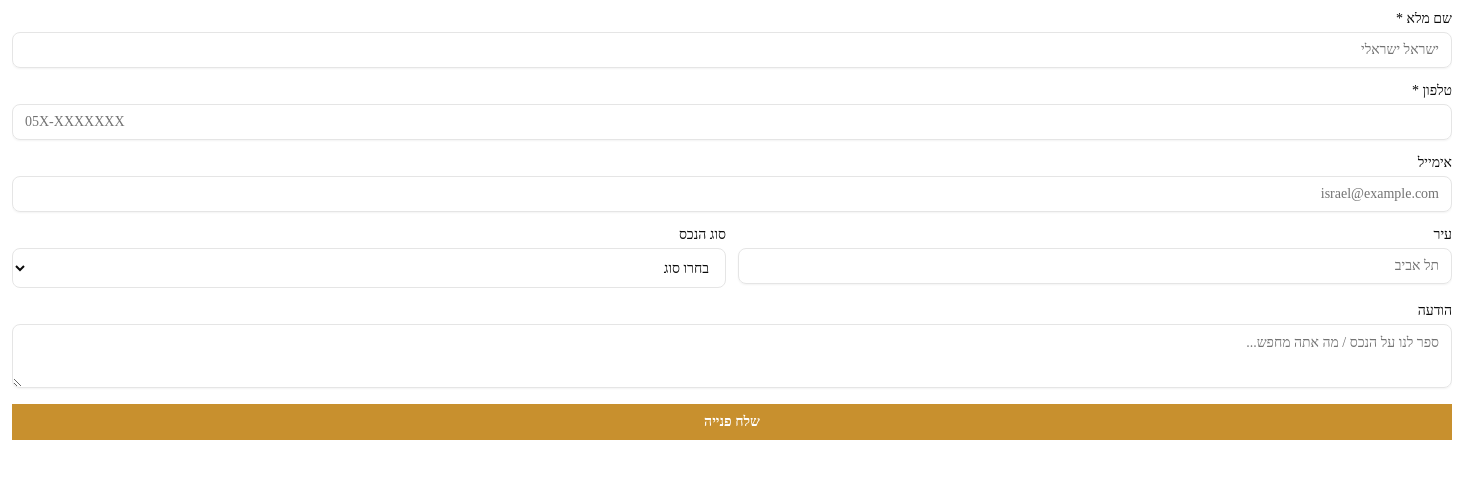
it: LeadForm › clears full_name error when user starts typing
This screenshot has width=1464, height=501.
Click the button "שלח פנייה".
click(732, 422)  # box [12,404,1452,440]
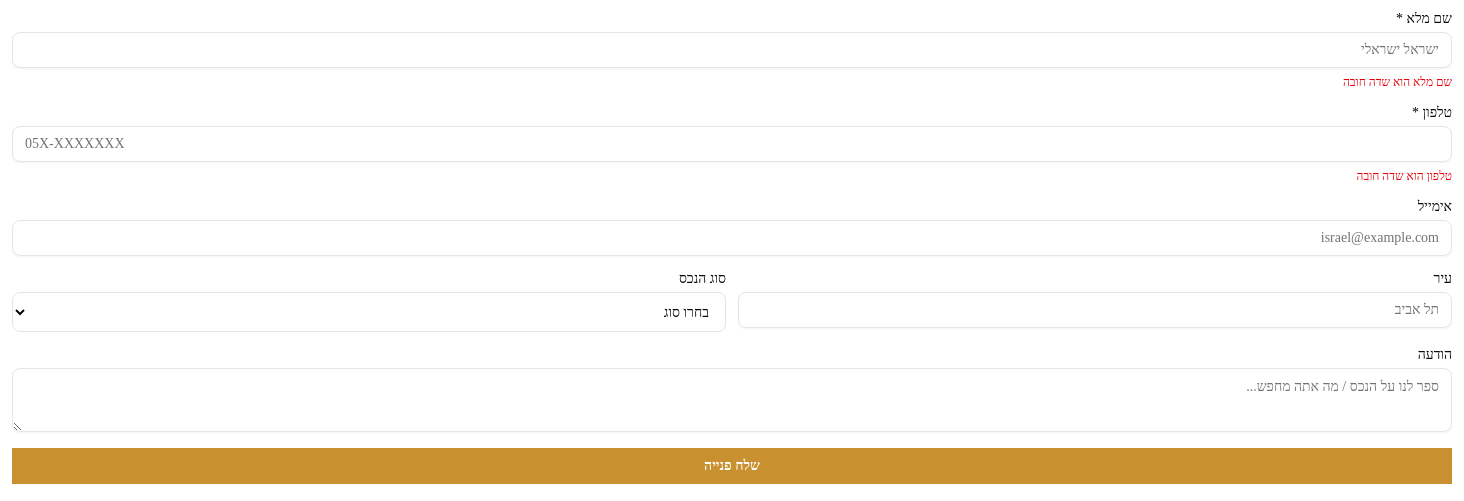
Result: the text "שם מלא הוא שדה חובה" is shown at [1343,75,1452,89]
Type "ישראל" into the field with placeholder "ישראל ישראלי".
click(732, 50); type("ישראל")  # box [12,32,1452,68]
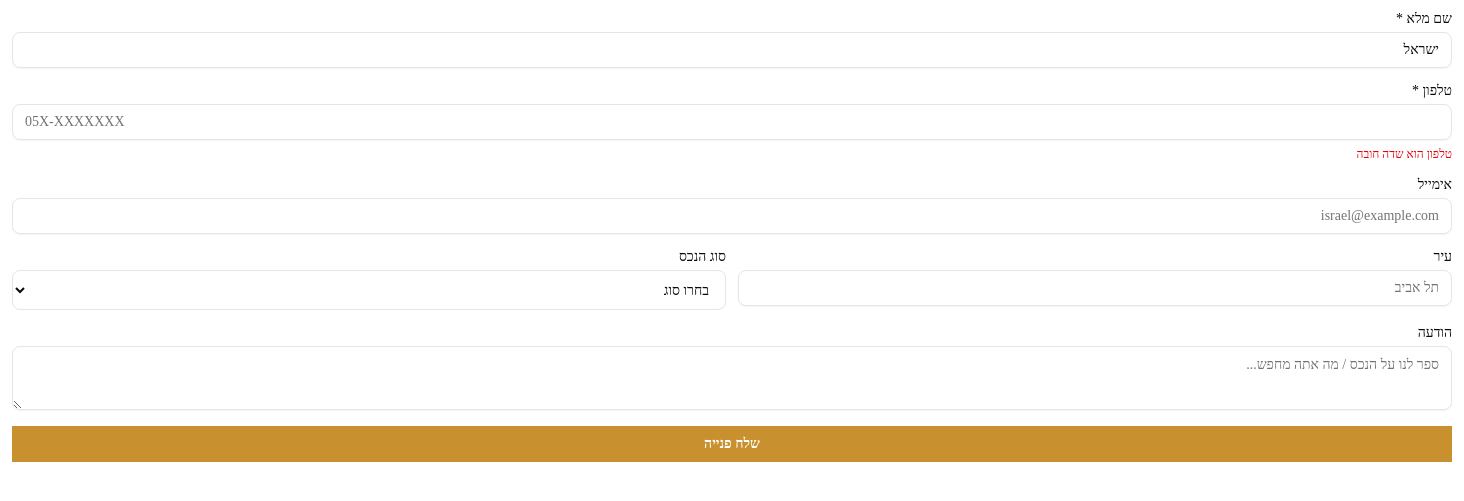
Result: the text "שם מלא הוא שדה חובה" is gone
